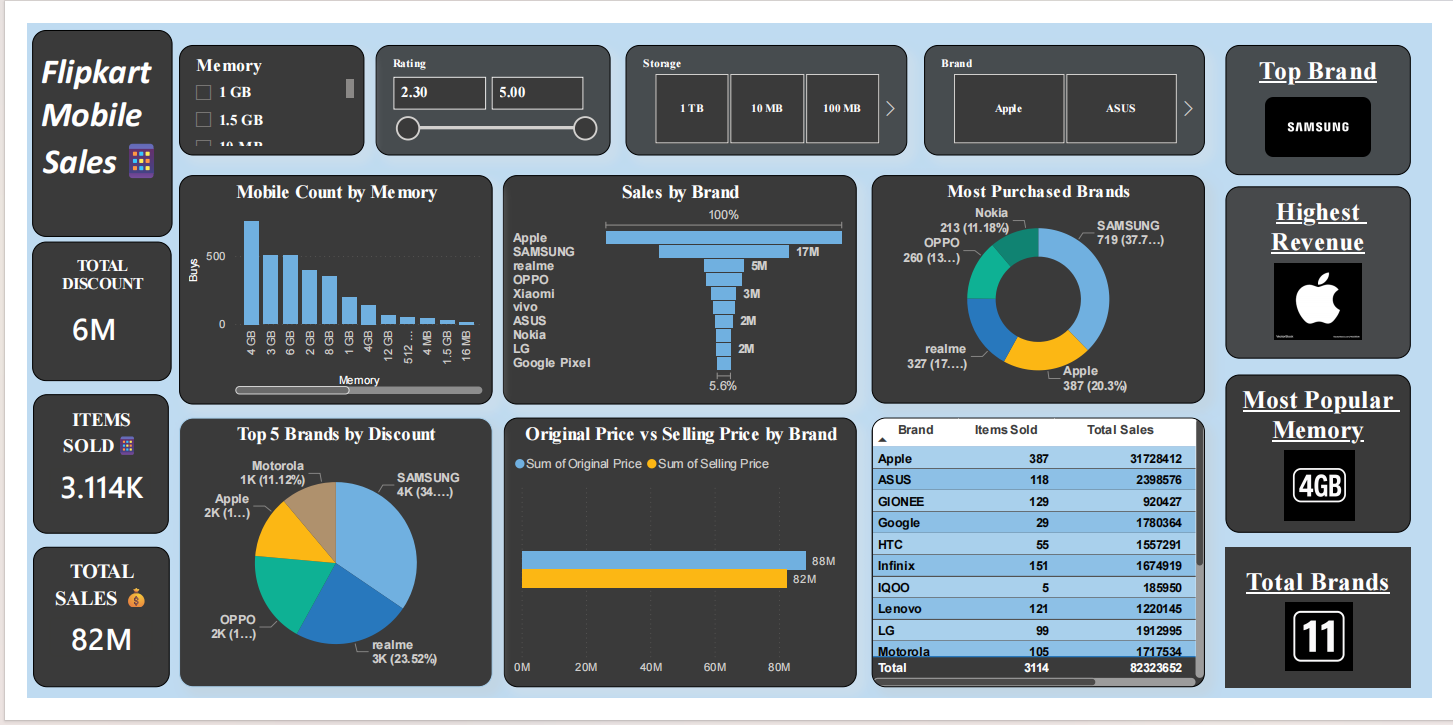

The dashboard page shown, as its layout file describes it:
{"tool":"powerbi","page":{"name":"Page 1","canvas":[1500,720],"ordinal":0},"visuals":[{"type":"funnel","title":"Sales by Brand","fields":{"Category":["output.Brand"],"Y":["Sum(output.Selling Price)"]},"box":[507.9,161.7,377.6,244.9],"z":0},{"type":"donutChart","title":"Most Purchased Brands","fields":{"Y":["CountNonNull(output.Index)"],"Category":["output.Brand"]},"box":[901.5,161.9,356.8,244.3],"z":1000},{"type":"clusteredColumnChart","title":"Mobile Count by Memory","fields":{"Category":["output.Memory"],"Y":["CountNonNull(output.Index)"]},"box":[161.7,161.7,335.4,244.9],"z":2000},{"type":"clusteredBarChart","title":"Original Price vs Selling Price by Brand","fields":{"Y":["Sum(output.Original Price)","Sum(output.Selling Price)"]},"box":[509.1,421,376.4,288.3],"z":3000},{"type":"pieChart","title":"Top 5 Brands by Discount","fields":{"Y":["Sum(output.Discount Percentage)"],"Category":["output.Brand"]},"box":[161.7,421,335.4,288.3],"z":4000},{"type":"tableEx","fields":{"Values":["output.Brand","CountNonNull(output.Index)","Sum(output.Selling Price)","Sum(output.Discount Amount)"]},"box":[901.5,421.3,356.8,288.2],"z":5000},{"type":"slicer","fields":{"Values":["output.Brand"]},"box":[957.8,23.3,300.5,118],"z":6000},{"type":"slicer","fields":{"Values":["output.Storage"]},"box":[639.5,23.3,300.5,118],"z":7000},{"type":"slicer","fields":{"Values":["output.Rating"]},"box":[371.9,23.3,251.1,118],"z":8000},{"type":"slicer","fields":{"Values":["output.Memory"]},"box":[161.9,23.3,197.6,118],"z":9000},{"type":"cardVisual","title":"TOTAL SALES 💰","fields":{"Data":["Sum(output.Selling Price)"]},"box":[5.8,559.3,146.5,150],"z":10000},{"type":"cardVisual","title":"ITEMS SOLD📱","fields":{"Data":["CountNonNull(output.Index)"]},"box":[6,395.7,144.8,149.6],"z":11000},{"type":"cardVisual","title":"TOTAL DISCOUNT ","fields":{"Data":["Sum(output.Discount Amount)"]},"box":[4.8,232.8,149.6,149.6],"z":12000},{"type":"textbox","box":[5.5,6.8,149.9,220.7],"z":13000},{"type":"textbox","box":[1279.5,23.2,198.9,139],"z":14001},{"type":"image","box":[1293.2,79,171.7,62.7],"z":14002},{"type":"textbox","box":[1279.5,174.4,198.9,184],"z":14003},{"type":"image","box":[1329.9,256.2,96.7,81.8],"z":14004},{"type":"textbox","box":[1279.5,374.7,198.9,169],"z":14005},{"type":"image","box":[1340.8,456.5,79,74.9],"z":14006},{"type":"textbox","box":[1279.5,558.7,198.9,149.9],"z":14007},{"type":"image","box":[1336.8,618.6,85.8,72.2],"z":14008}]}

Visuals, with their boxes in screenshot pixels (x1, y1, x2, y2):
"Sales by Brand" funnel: x1=504, y1=170, x2=865, y2=404
"Most Purchased Brands" donutChart: x1=880, y1=170, x2=1221, y2=403
"Mobile Count by Memory" clusteredColumnChart: x1=173, y1=170, x2=494, y2=404
"Original Price vs Selling Price by Brand" clusteredBarChart: x1=505, y1=417, x2=865, y2=693
"Top 5 Brands by Discount" pieChart: x1=173, y1=417, x2=494, y2=693
tableEx - output.Brand x CountNonNull(output.Index): x1=880, y1=418, x2=1221, y2=693
slicer - output.Brand: x1=934, y1=37, x2=1221, y2=150
slicer - output.Storage: x1=630, y1=37, x2=917, y2=150
slicer - output.Rating: x1=374, y1=37, x2=614, y2=150
slicer - output.Memory: x1=174, y1=37, x2=362, y2=150
"TOTAL SALES 💰" cardVisual: x1=24, y1=549, x2=164, y2=693
"ITEMS SOLD📱" cardVisual: x1=25, y1=393, x2=163, y2=536
"TOTAL DISCOUNT " cardVisual: x1=24, y1=238, x2=166, y2=380
textbox: x1=24, y1=22, x2=167, y2=232
textbox: x1=1241, y1=37, x2=1431, y2=170
image: x1=1254, y1=91, x2=1418, y2=151
textbox: x1=1241, y1=182, x2=1431, y2=358
image: x1=1289, y1=260, x2=1382, y2=338
textbox: x1=1241, y1=373, x2=1431, y2=535
image: x1=1300, y1=451, x2=1375, y2=523
textbox: x1=1241, y1=549, x2=1431, y2=692
image: x1=1296, y1=606, x2=1378, y2=675
